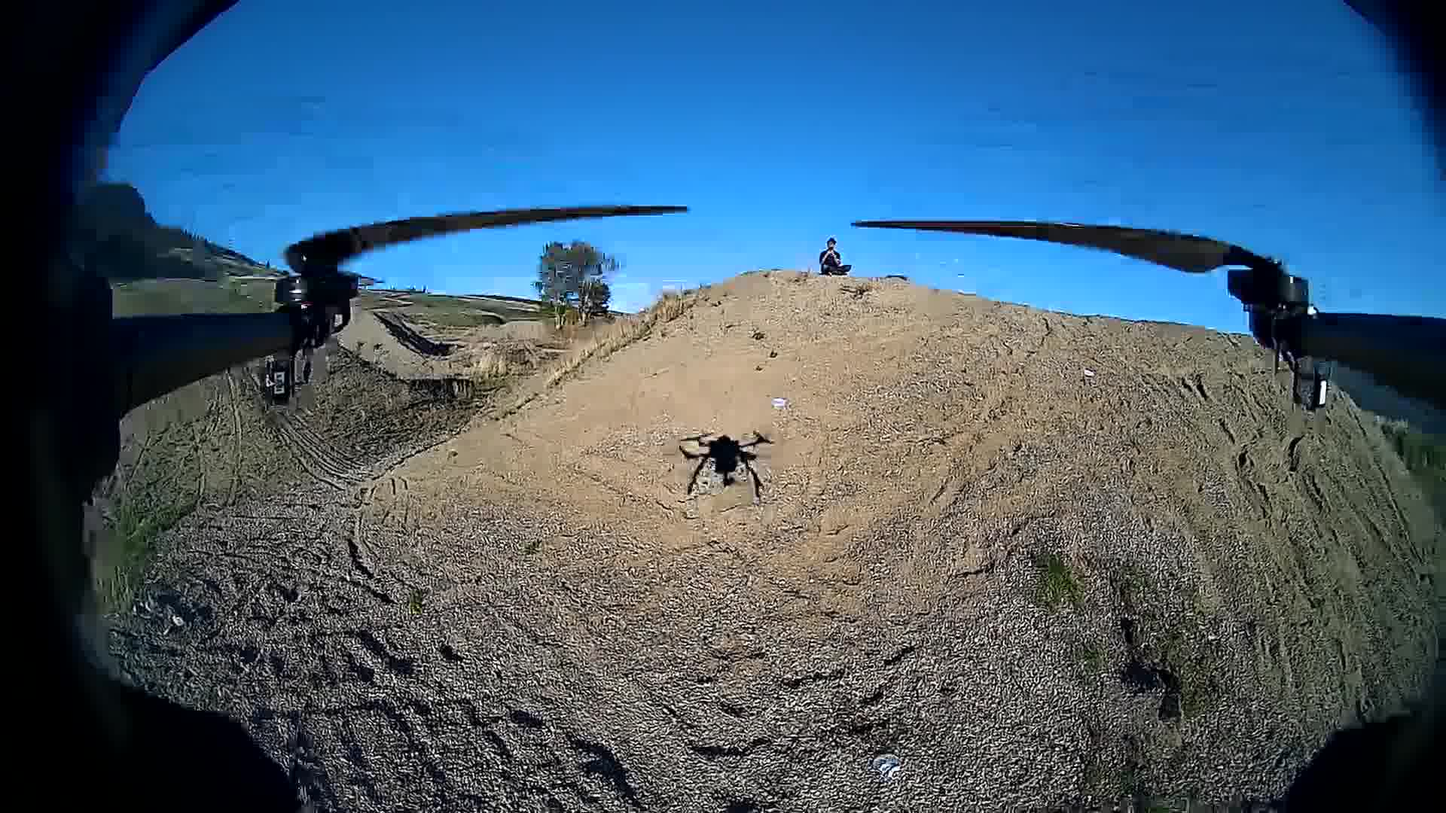Target: (870, 753, 903, 778), (769, 397, 787, 408)
